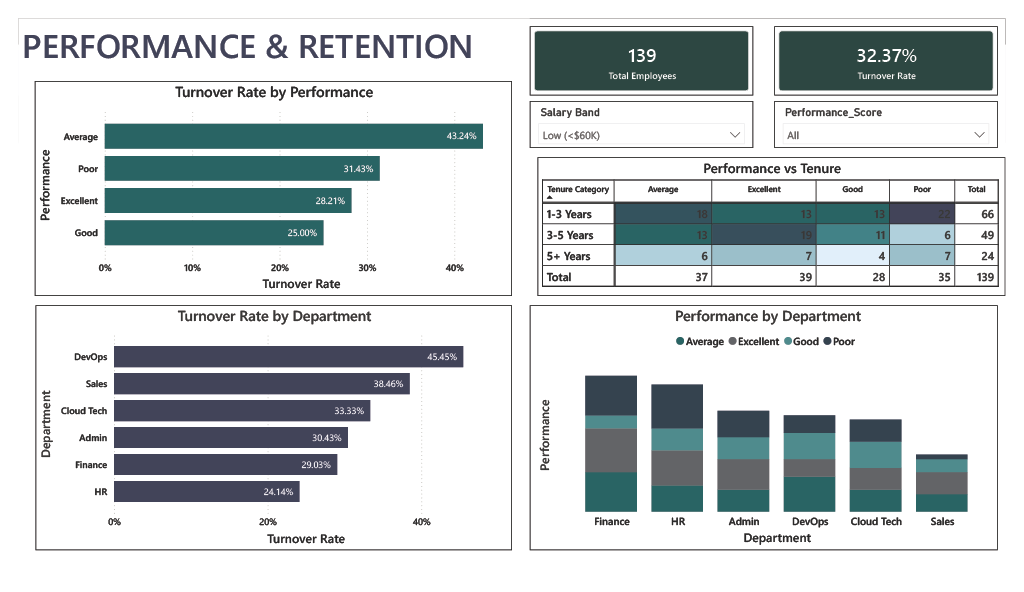

This screenshot's page, from the dashboard's own definition file:
{"tool":"powerbi","page":{"name":"Performance","canvas":[1280,720],"ordinal":2},"visuals":[{"type":"barChart","fields":{"Y":["Sheet4.Turnover Rate"],"Category":["Sheet4.Department"]},"box":[22,372,618,318],"z":0},{"type":"columnChart","title":"Performance by Department  ","fields":{"Category":["Sheet4.Department"],"Y":["Sheet4.Total Employees"],"Series":["Sheet4.Performance_Score"]},"box":[663.3,371.7,606.7,318.3],"z":1000},{"type":"textbox","box":[0,0,662.9,100],"z":2000},{"type":"barChart","title":"Turnover Rate by Performance","fields":{"Category":["Sheet4.Performance_Score"],"Y":["Sheet4.Turnover Rate"]},"box":[21.4,81.4,618.6,278.6],"z":3000},{"type":"pivotTable","title":"Performance vs Tenure ","fields":{"Rows":["Sheet4.Tenure Category"],"Values":["Sheet4.Total Employees"],"Columns":["Sheet4.Performance_Score"]},"box":[673,180,607,180],"z":4000},{"type":"cardVisual","fields":{"Data":["Sheet4.Turnover Rate"]},"box":[980,10,290,90],"z":5000},{"type":"cardVisual","fields":{"Data":["Sheet4.Total Employees"]},"box":[662.9,10,290,90],"z":6000},{"type":"slicer","fields":{"Values":["Sheet4.Salary Band"]},"box":[663,107,290,61],"z":7000},{"type":"slicer","fields":{"Values":["Sheet4.Performance_Score"]},"box":[980,107,290,61],"z":8000}]}

Visuals, with their boxes in screenshot pixels (x1, y1, x2, y2), scaled from the page's 1280x720 canvas onto the 1024x592 screenshot:
barChart - Sheet4.Turnover Rate x Sheet4.Department: x1=18, y1=306, x2=512, y2=567
"Performance by Department  " columnChart: x1=531, y1=306, x2=1016, y2=567
textbox: x1=0, y1=0, x2=530, y2=82
"Turnover Rate by Performance" barChart: x1=17, y1=67, x2=512, y2=296
"Performance vs Tenure " pivotTable: x1=538, y1=148, x2=1023, y2=296
cardVisual - Sheet4.Turnover Rate: x1=784, y1=8, x2=1016, y2=82
cardVisual - Sheet4.Total Employees: x1=530, y1=8, x2=762, y2=82
slicer - Sheet4.Salary Band: x1=530, y1=88, x2=762, y2=138
slicer - Sheet4.Performance_Score: x1=784, y1=88, x2=1016, y2=138
